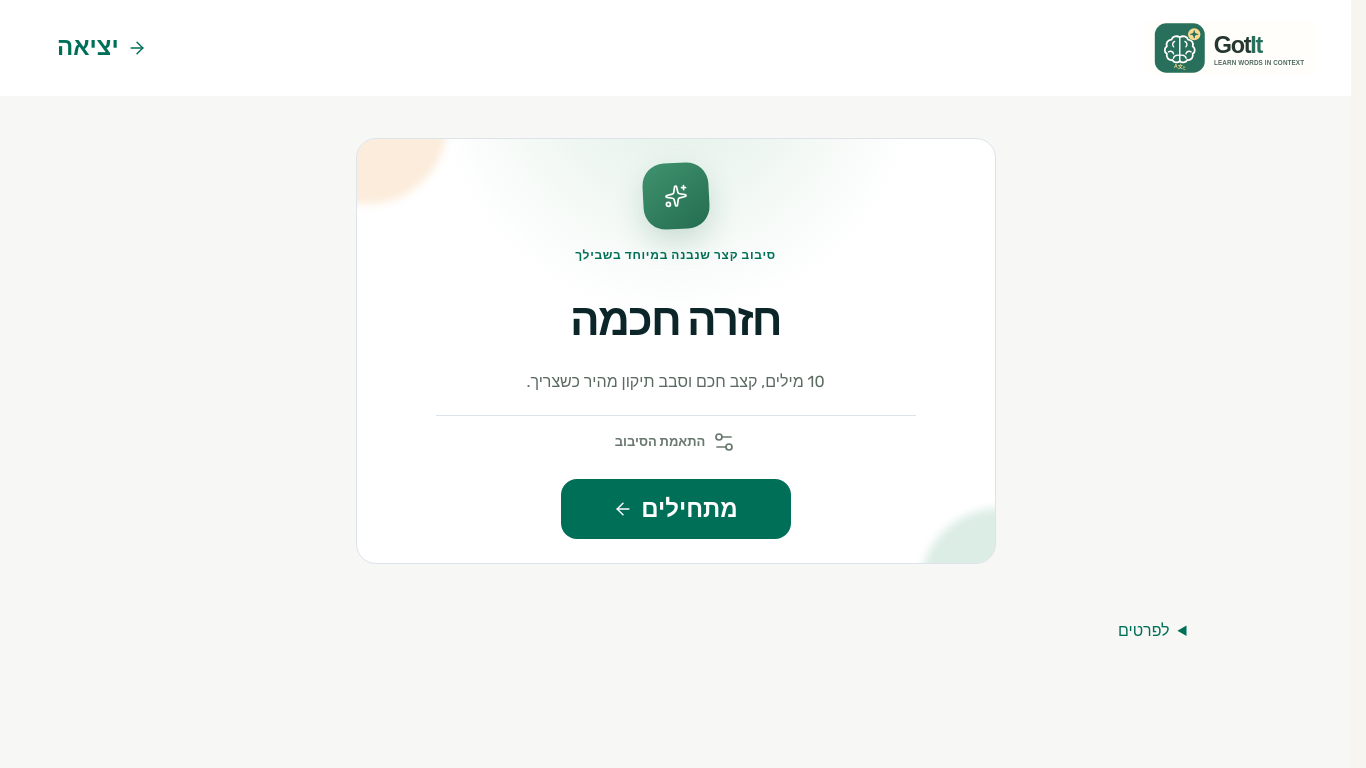
Test: live server-backed flows › rejects an Arabic resumed session with 0 attempts while English is selected
This screenshot has width=1366, height=768.
What coordinates should you click on to do the following:
click the button "מתחילים"
I would click on:
 (676, 509)
Its box is [560,479,790,539].
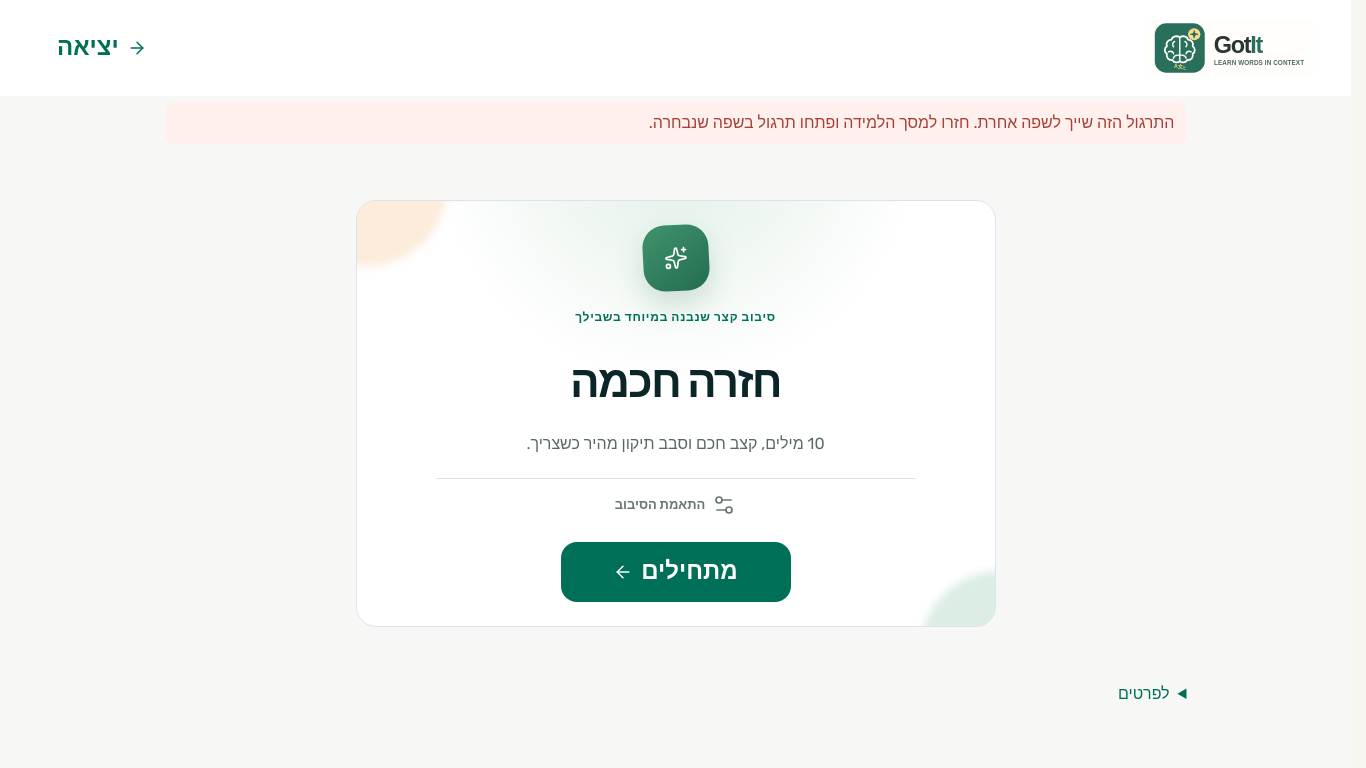
Expected: the message shows "התרגול הזה שייך לשפה אחרת", [649,113,1174,132]
